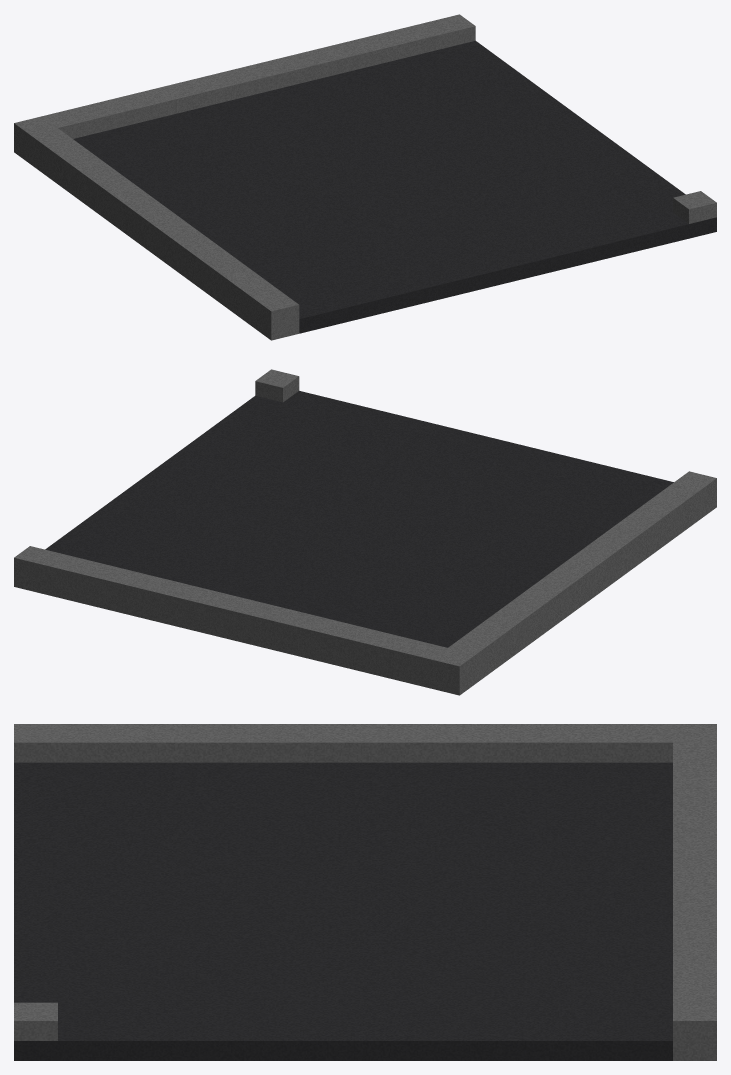
File: turn.glb
3 views of the same model, one above another, from view 1: azimuth 30°, elevation 25°; view 2: azimuth 150°, elevation 25°; view 3: azimuth 270°, elevation 25° (orthographic). The views are drawn at different scales.
Parts seen in each view (by area): view 1: Cube; view 2: Cube; view 3: Cube.
Part boxes in pixels (bbox=[...]): Cube: bbox=[14, 14, 716, 340]; Cube: bbox=[14, 369, 716, 695]; Cube: bbox=[14, 724, 716, 1060].
Size of the model in its own units: 32 by 2 by 32.
Materials: 1 (1 with a texture image).
